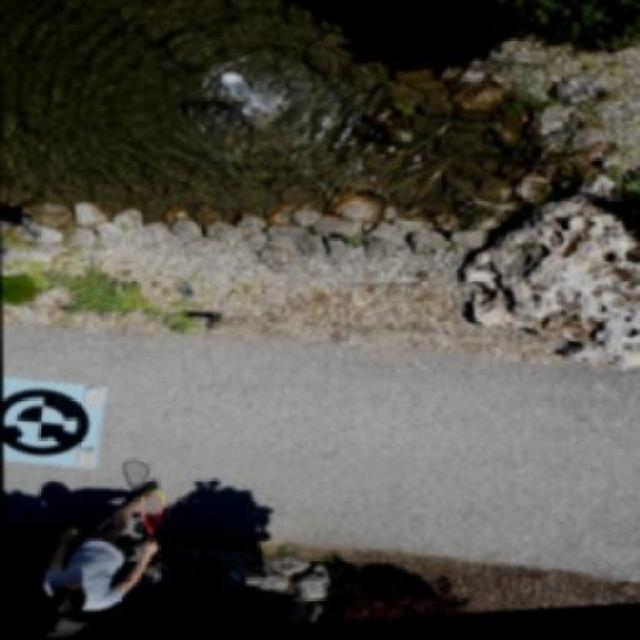Person: (39, 476, 172, 632)
